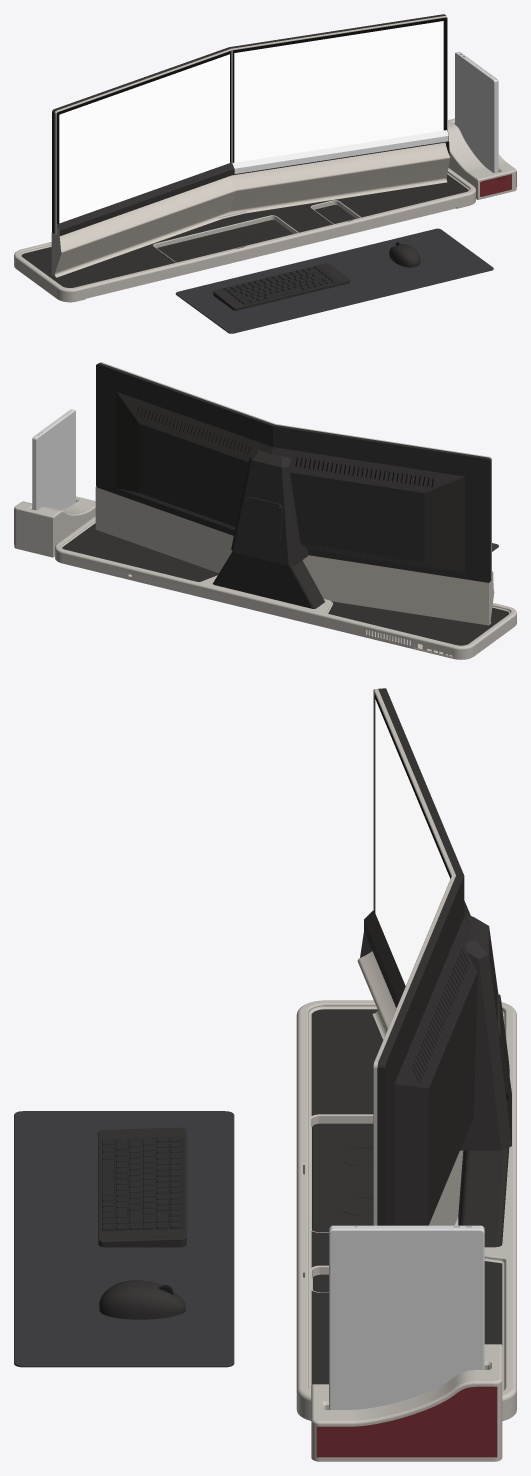
Rendered from station-ribbon.glb.
3 renders of one model, top to bottom at view 1: azimuth 30°, elevation 25°; view 2: azimuth 150°, elevation 25°; view 3: azimuth 270°, elevation 25°, orthographic. The views are drawn at different scales.
Visible parts, largest first — view 1: display_screen, ribbon_cove, deskmat, base_shell, deck_liner, laptop_body, display_glass, ribbon_sill, ribbon_mirrors, tray_pad_kb, keyboard_keys, dock_cradle (+7 smaller); view 2: display_back, ribbon_sill, base_shell, deck_liner, laptop_body, neck, dock_cradle, display_glass, display_frame; view 3: deskmat, display_back, laptop_body, base_shell, display_screen, deck_liner, dock_panels, keyboard_keys, tray_pad_kb, dock_cradle, neck, display_frame (+5 smaller).
Part boxes in pixels (<box>): display_screen: <box>59,21,443,223</box>; ribbon_cove: <box>55,142,450,277</box>; deskmat: <box>175,228,493,333</box>; base_shell: <box>14,168,475,302</box>; deck_liner: <box>21,174,468,287</box>; laptop_body: <box>455,51,498,172</box>; display_glass: <box>56,17,446,224</box>; ribbon_sill: <box>51,132,449,276</box>; ribbon_mirrors: <box>232,130,448,173</box>; tray_pad_kb: <box>157,220,293,262</box>; keyboard_keys: <box>223,265,340,305</box>; dock_cradle: <box>448,118,516,199</box>; display_back: <box>96,362,491,582</box>; ribbon_sill: <box>95,487,494,625</box>; base_shell: <box>55,516,516,659</box>; deck_liner: <box>62,523,509,645</box>; laptop_body: <box>32,409,75,510</box>; neck: <box>212,552,324,608</box>; dock_cradle: <box>14,496,95,557</box>; display_glass: <box>136,407,433,565</box>; display_frame: <box>100,362,491,580</box>; deskmat: <box>14,1111,234,1367</box>; display_back: <box>377,688,511,1225</box>; laptop_body: <box>329,1225,484,1409</box>; base_shell: <box>296,1000,516,1420</box>; display_screen: <box>375,699,450,985</box>; deck_liner: <box>311,1009,502,1384</box>; dock_panels: <box>316,1386,497,1457</box>; keyboard_keys: <box>100,1136,184,1231</box>; tray_pad_kb: <box>312,1123,373,1232</box>; dock_cradle: <box>311,1344,502,1461</box>; neck: <box>458,1147,509,1247</box>; display_frame: <box>373,689,455,1225</box>.
Size of the model in its own units: 1.42 by 0.5197 by 0.685.
